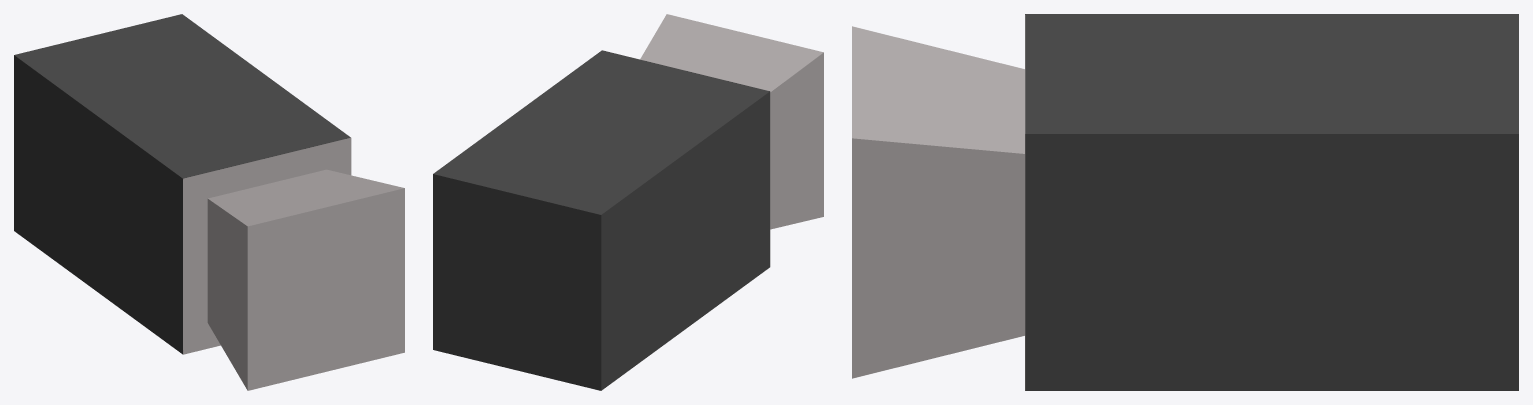
File: Camera.obj
3 renders of one model, left to right at view 1: azimuth 30°, elevation 25°; view 2: azimuth 150°, elevation 25°; view 3: azimuth 270°, elevation 25°, orthographic. The views are drawn at different scales.
Visible parts, largest first — view 1: Cube; view 2: Cube; view 3: Cube.
Part boxes in pixels (<box>): Cube: <box>14,14,404,390</box>; Cube: <box>433,14,823,390</box>; Cube: <box>852,14,1518,390</box>.
Bounding box in the file's own units: 1.26 × 1.26 × 2.97.
Materials: 1 (1 with a texture image).
